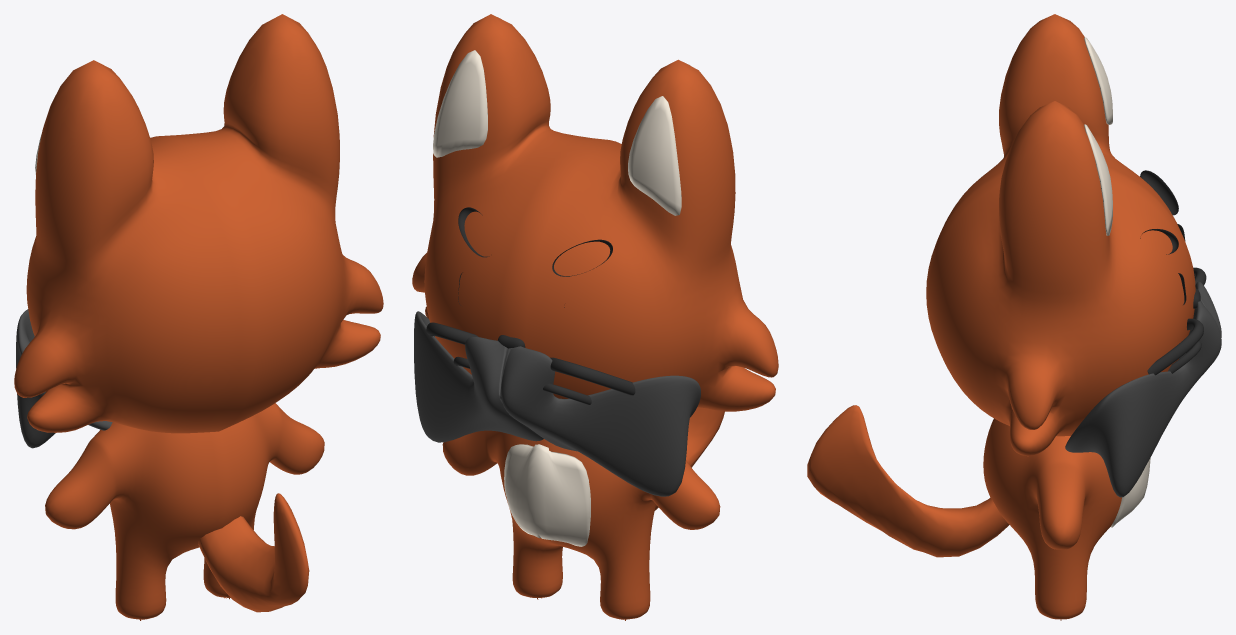
The model's file is turbotails2.fbx.
3 views of the same model, side by side, from view 1: azimuth 30°, elevation 25°; view 2: azimuth 150°, elevation 25°; view 3: azimuth 270°, elevation 25° (orthographic). The views are drawn at different scales.
Parts seen in each view (by area): view 1: Cube.004; view 2: Cube.004; view 3: Cube.004.
Boxes of the visible parts, x1=… form: Cube.004: x1=14, y1=14, x2=383, y2=620; Cube.004: x1=412, y1=14, x2=778, y2=620; Cube.004: x1=807, y1=14, x2=1221, y2=620.
Bounding box in the file's own units: 267 × 402 × 278.
